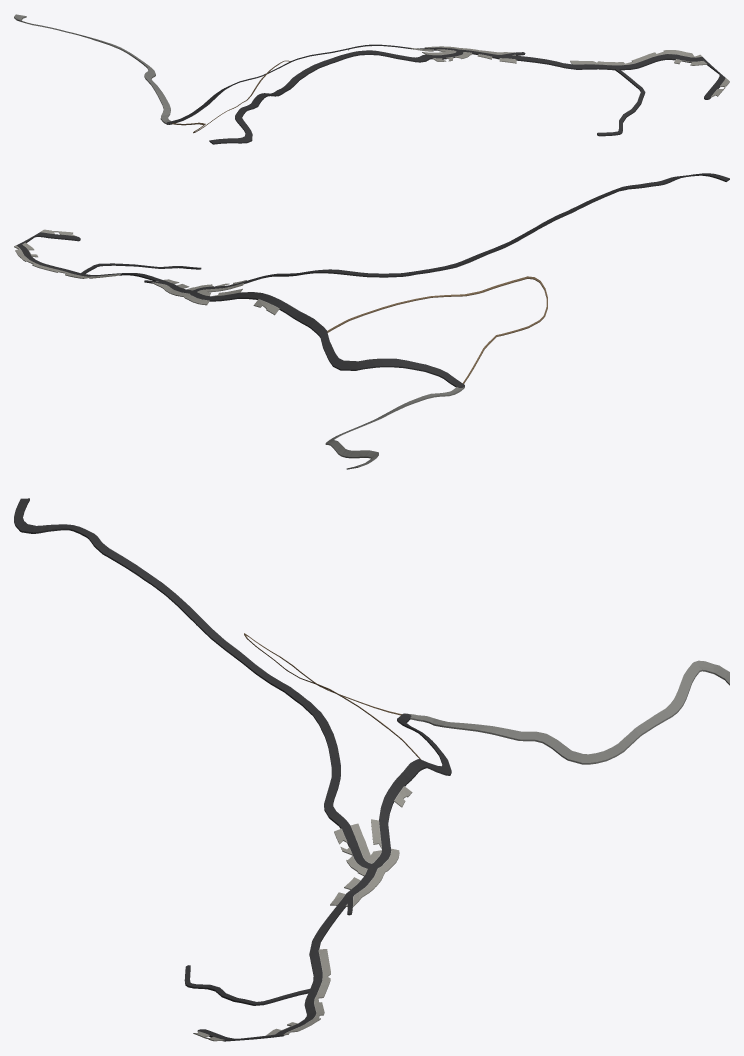
3 renders of one model, top to bottom at view 1: azimuth 30°, elevation 25°; view 2: azimuth 150°, elevation 25°; view 3: azimuth 270°, elevation 25°, orthographic. The views are drawn at different scales.
Bounding box in the file's own units: 587 × 146 × 485.
